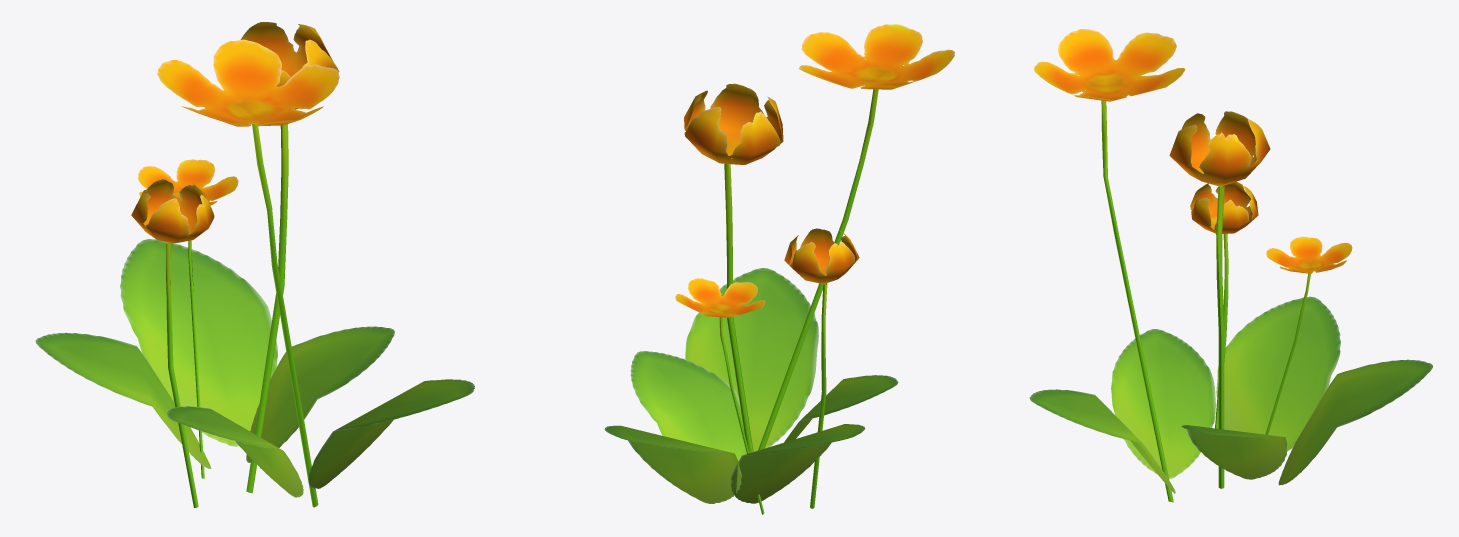
File: lotus_2_flower_2.001.fbx
The picture shows the model from 3 angles, left to right: view 1: azimuth 30°, elevation 25°; view 2: azimuth 150°, elevation 25°; view 3: azimuth 270°, elevation 25°; orthographic projection. The views are drawn at different scales.
Visible parts, largest first — view 1: lotus_2_flower_2.001; view 2: lotus_2_flower_2.001; view 3: lotus_2_flower_2.001.
Part boxes in pixels (x1,y1,x2,y2): lotus_2_flower_2.001: (35,22,474,507); lotus_2_flower_2.001: (604,24,954,514); lotus_2_flower_2.001: (1029,29,1432,502).
Bounding box in the file's own units: 151 × 187 × 187.
